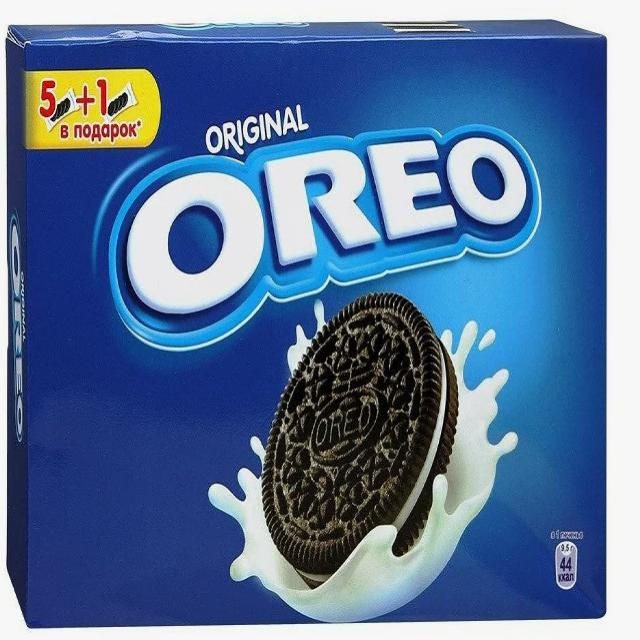supermarket-product: (103, 100, 558, 549)
